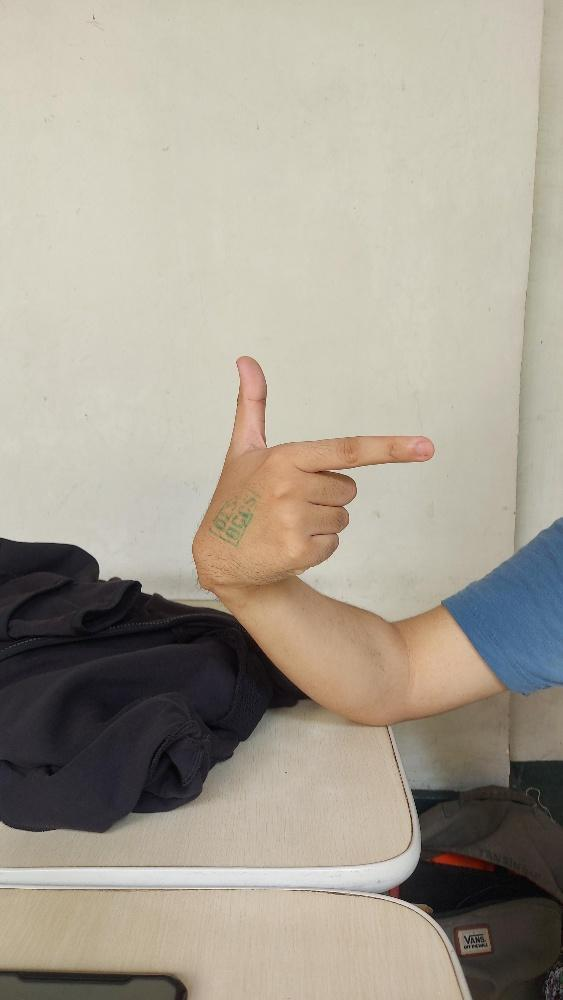g: (190, 354, 434, 587)
